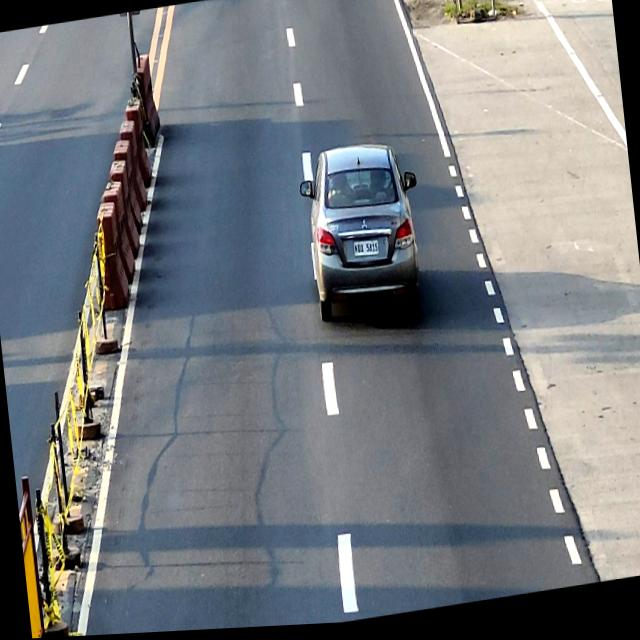Car: (296, 140, 429, 336)
License-Plate: (352, 242, 379, 262)
